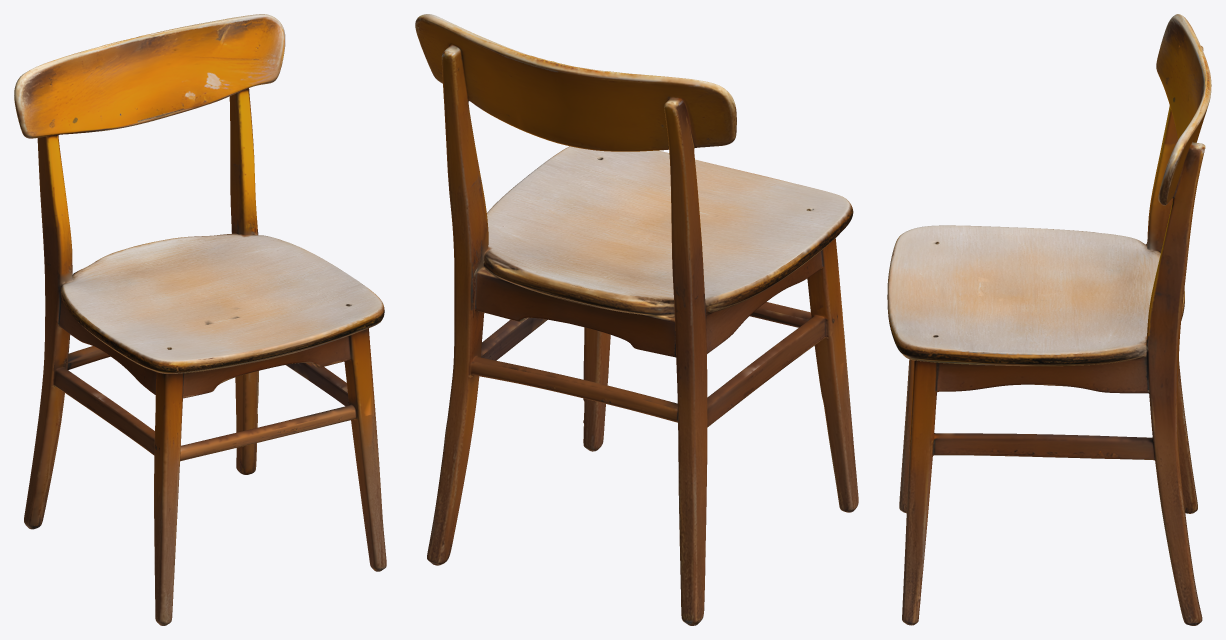
The model's file is cadeira-curva-72.glb.
3 renders of one model, left to right at view 1: azimuth 30°, elevation 25°; view 2: azimuth 150°, elevation 25°; view 3: azimuth 270°, elevation 25°, orthographic. The views are drawn at different scales.
Parts seen in each view (by area): view 1: Mesh_0_Material_0; view 2: Mesh_0_Material_0; view 3: Mesh_0_Material_0.
Part boxes in pixels (bbox=[...]): Mesh_0_Material_0: bbox=[14, 14, 386, 625]; Mesh_0_Material_0: bbox=[415, 14, 858, 625]; Mesh_0_Material_0: bbox=[887, 14, 1211, 625].
Bounding box in the file's own units: 0.5922 × 0.9684 × 0.5761.
1 material, 1 textured.
